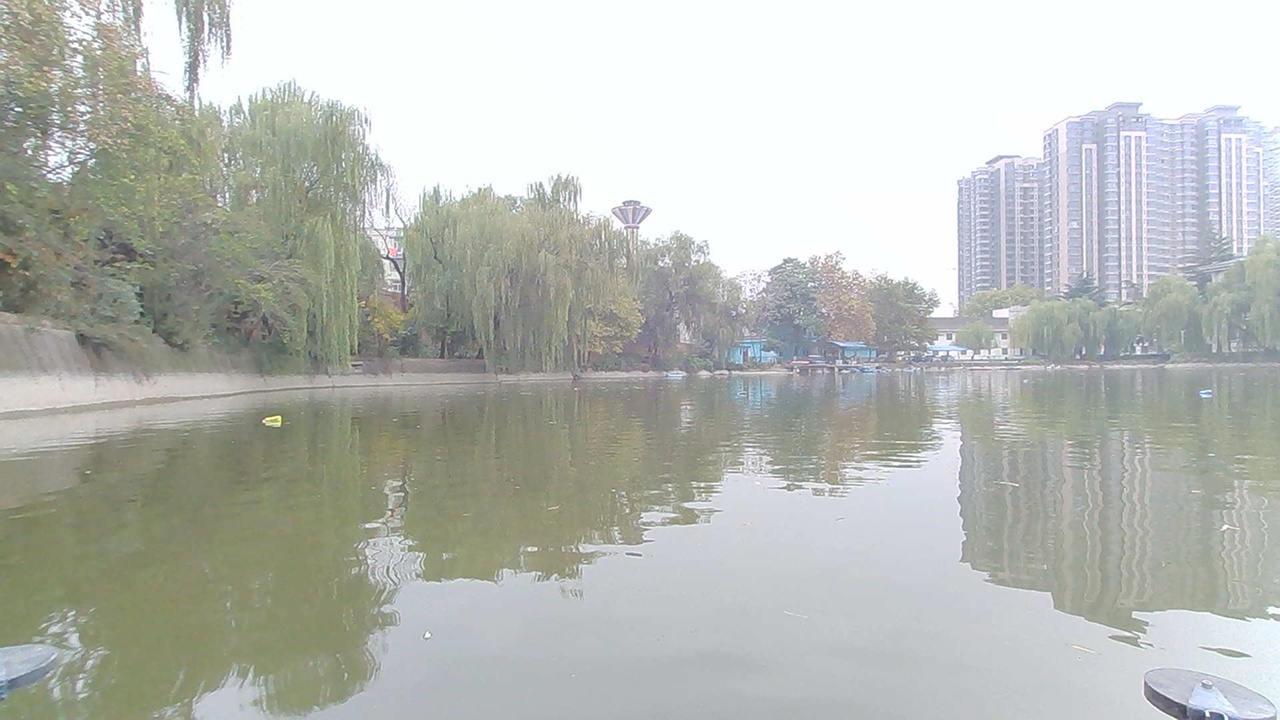bottle: (258, 411, 292, 434), (1189, 383, 1220, 406), (727, 389, 756, 404)
